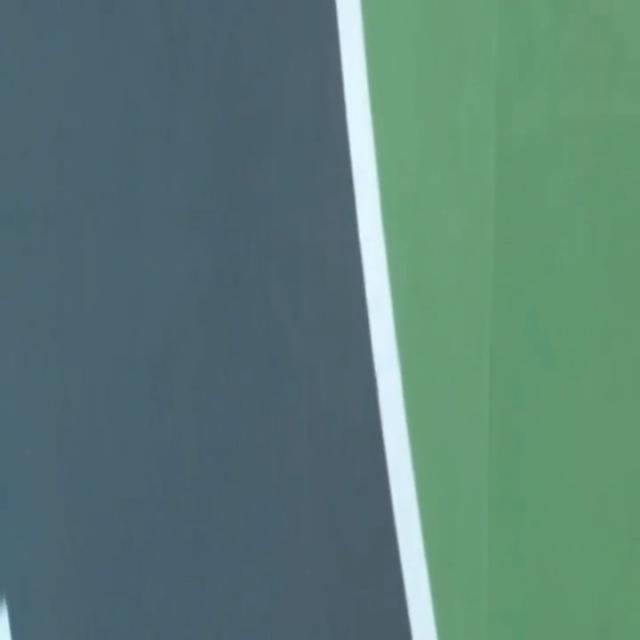center: (0, 597, 12, 639)
right: (335, 0, 436, 639)
